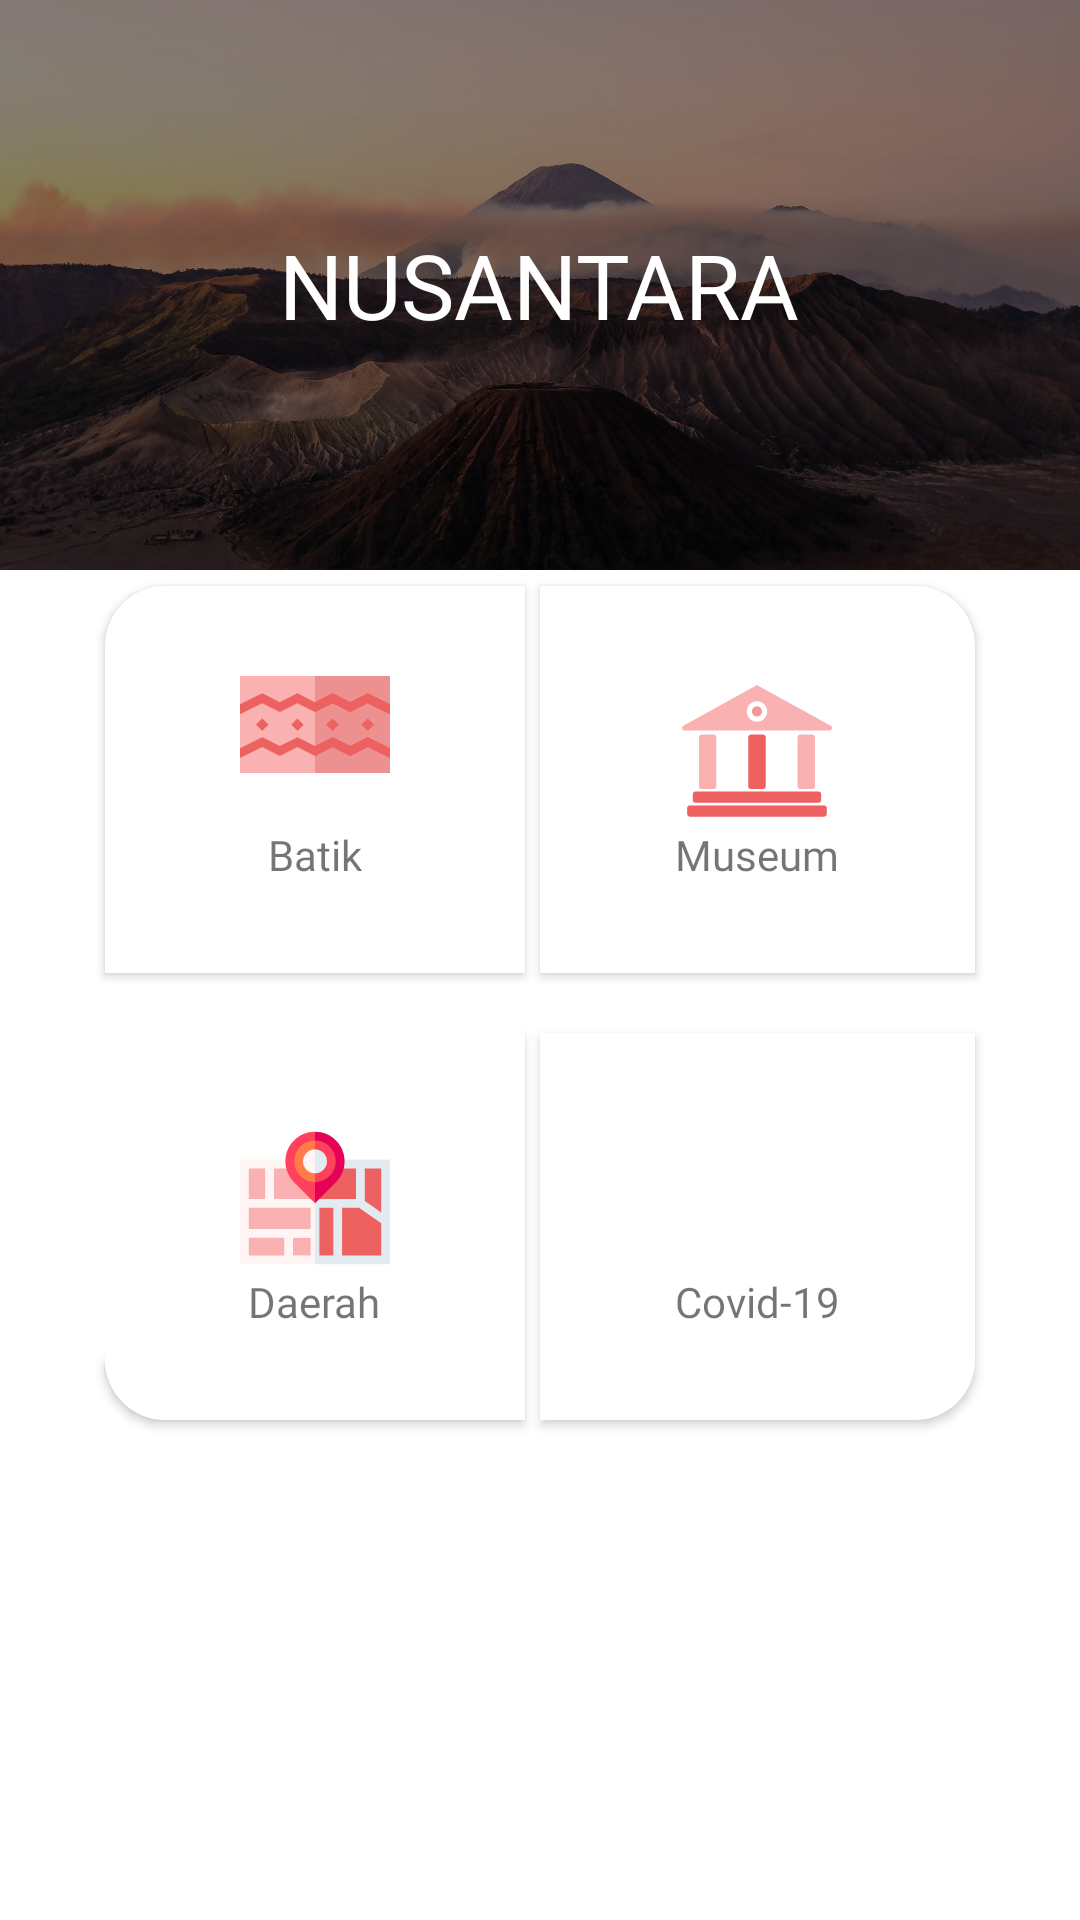

Where icons sit on this 1080 x 1920 app screen, as (x1, y1, x2, y2):
map: (249, 1131, 390, 1264)
